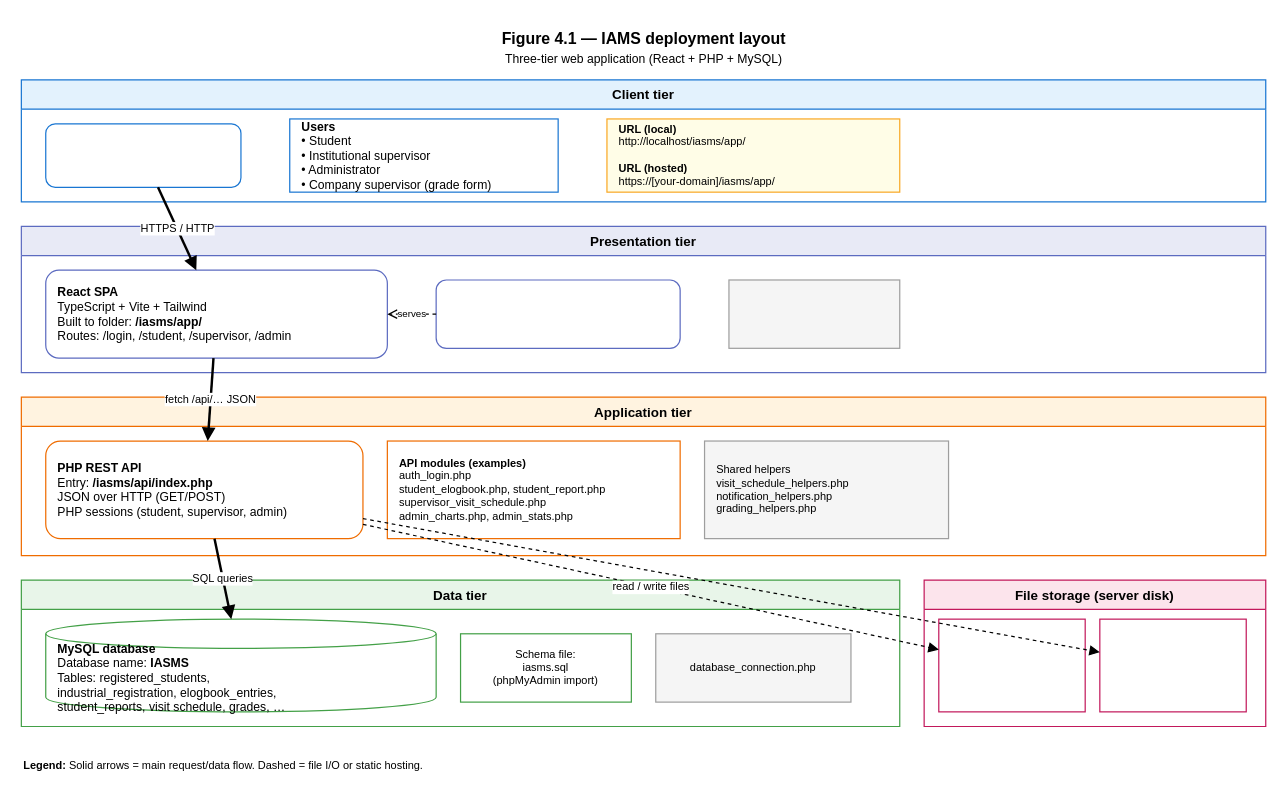
The diagram is 1287 pixels wide and 808 high, and some of its shapes have lost their labels. The shapes that lost their labels are listed below. From the top down, each one's centre as x and y in pixels, then its label:
At [143,155]: "Web browser Chrome / Edge / Firefox Desktop & mobile".
At [557,313]: "Apache web server XAMPP (development) InfinityFree (production)".
At [814,313]: "Static assets JS, CSS, images (header_log.png, etc.)".
At [1011,665]: "Final reports submit_report/uploads/ PDF, DOC, DOCX".
At [1172,665]: "Contracts student_contracts (PDF in DB / uploads)".
